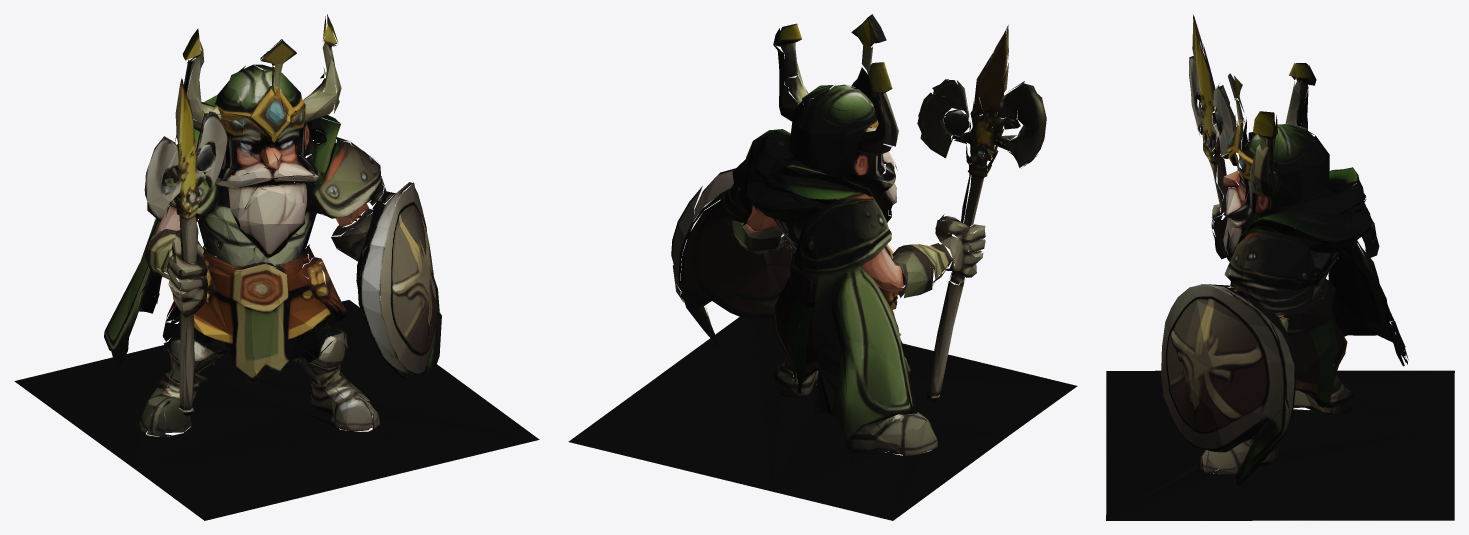
The model's file is enano3b.glb.
The picture shows the model from 3 angles, left to right: view 1: azimuth 30°, elevation 25°; view 2: azimuth 150°, elevation 25°; view 3: azimuth 270°, elevation 25°; orthographic projection. The views are drawn at different scales.
Parts seen in each view (by area): view 1: geometry_0; view 2: geometry_0; view 3: geometry_0.
Part boxes in pixels (bbox=[...]): geometry_0: bbox=[14, 14, 539, 520]; geometry_0: bbox=[568, 14, 1077, 520]; geometry_0: bbox=[1106, 15, 1454, 520].
Bounding box in the file's own units: 0.8973 × 0.9938 × 0.8497.
1 material, 1 textured.
